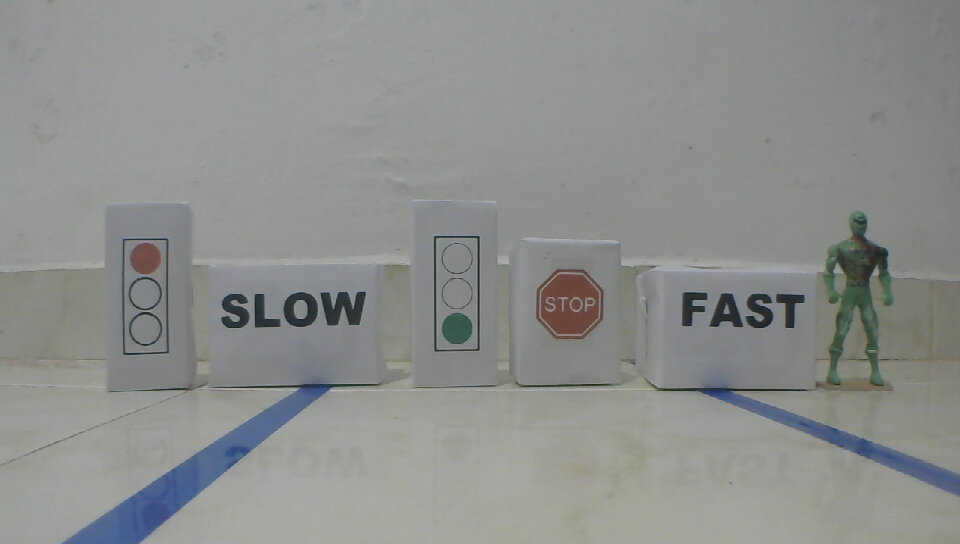Fast: (680, 290, 807, 331)
Green Traffic Light: (430, 232, 482, 355)
Person: (819, 211, 897, 389)
Red Traffic Light: (119, 235, 173, 359)
Slow: (218, 290, 370, 331)
Stop Sign: (535, 267, 606, 340)
